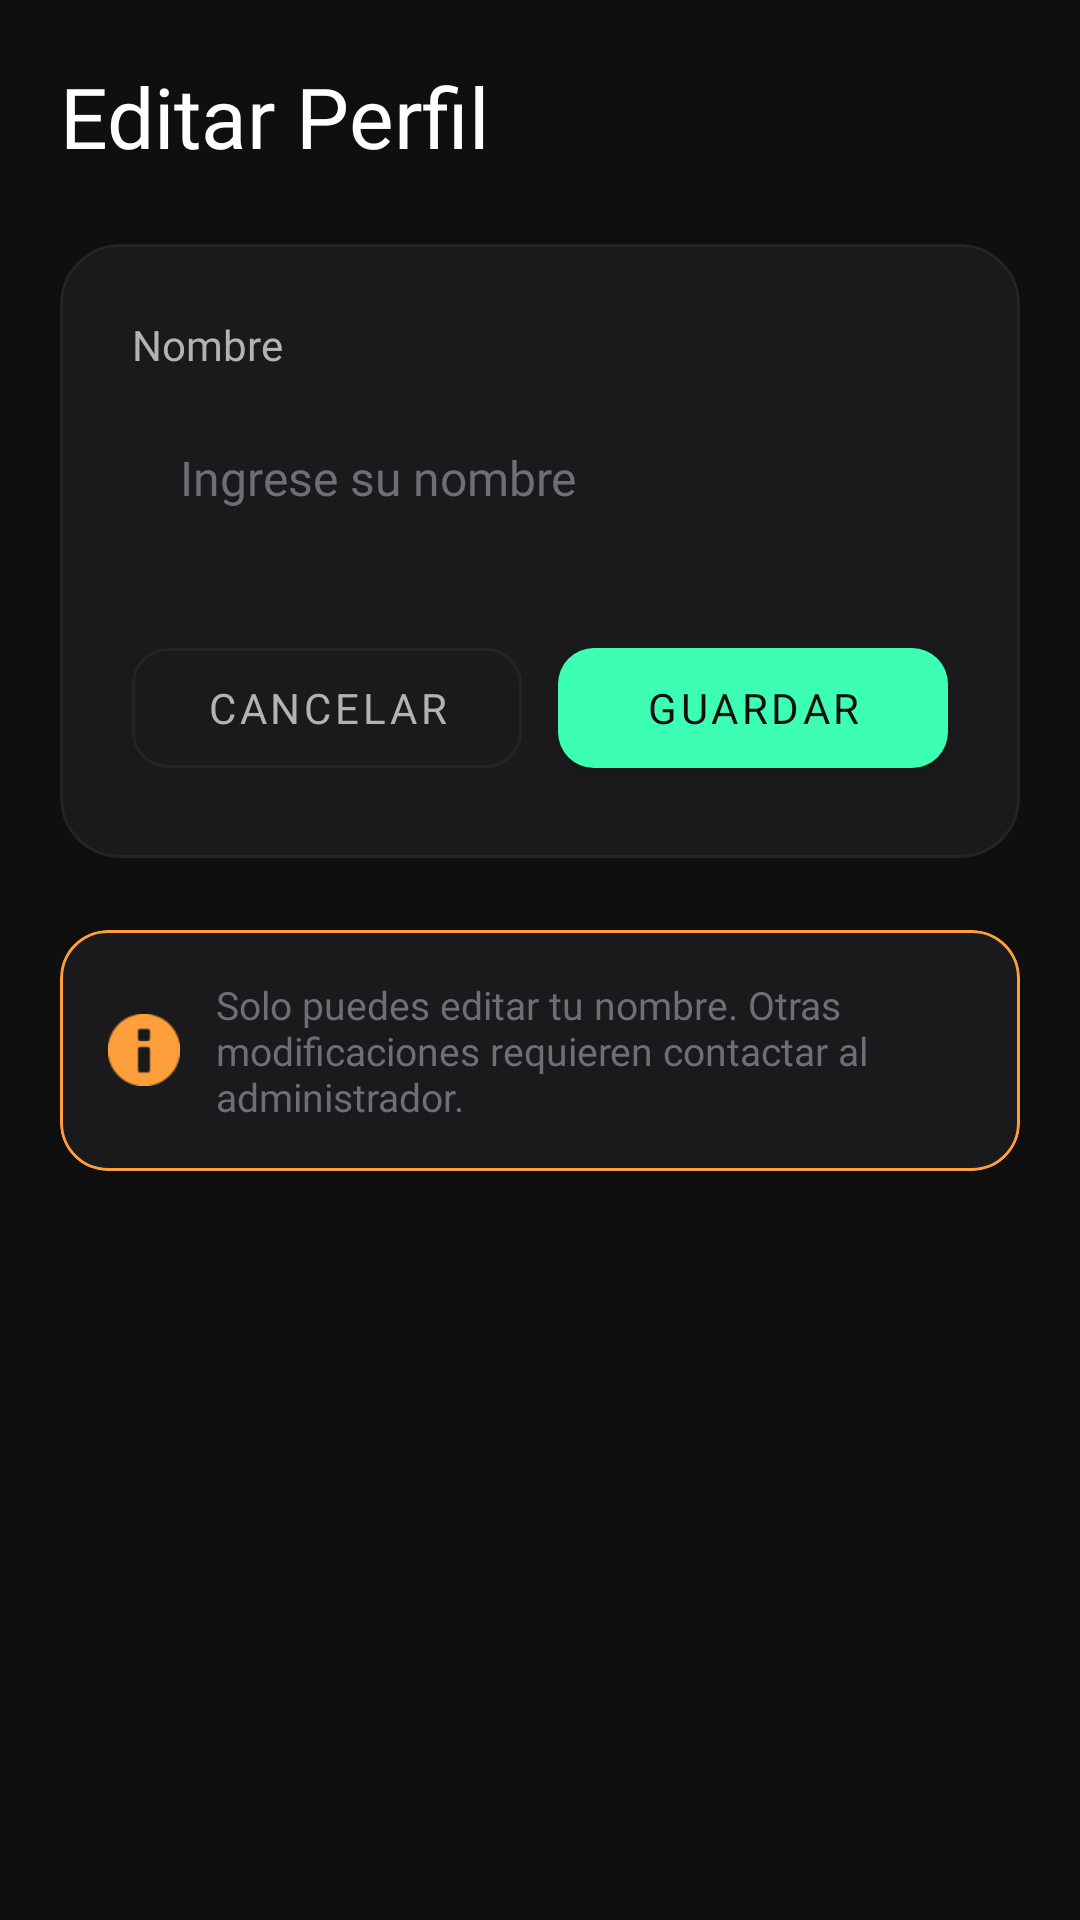

Locate icon controls on the screen. Image size 1080w x 1920h, boxes as (x1, y1, x2, y2).
info: (108, 1014, 180, 1086)
